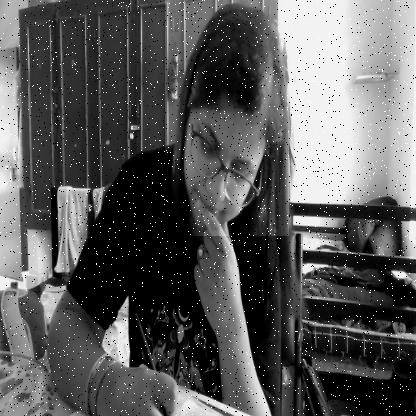Distracted: (165, 0, 289, 236)
